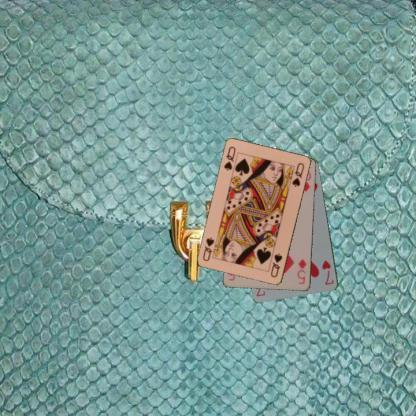5d: (294, 256, 309, 286)
7h: (320, 258, 336, 286)
Qs: (268, 250, 284, 280), (221, 144, 237, 172)
